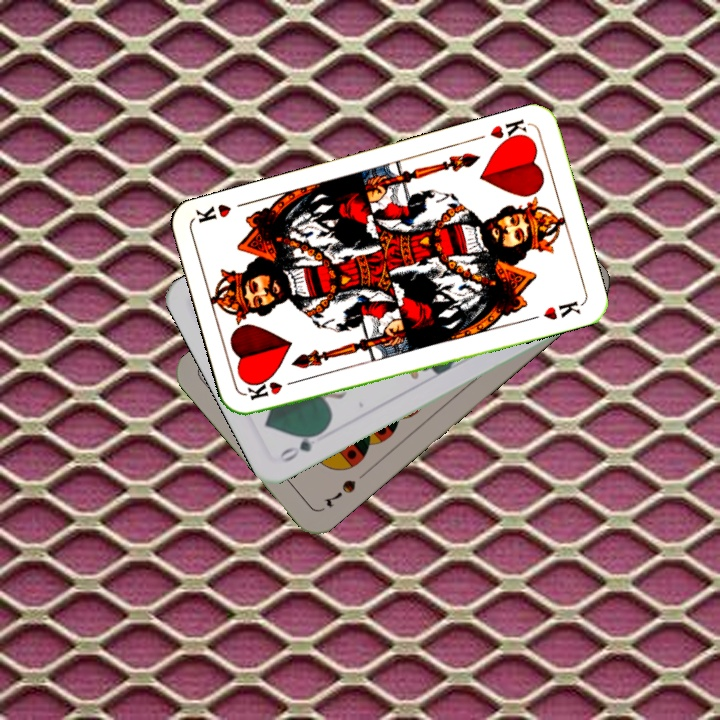GO: (274, 426, 327, 465)
HK: (243, 375, 303, 403), (486, 115, 533, 149)
S7: (321, 475, 359, 511)
